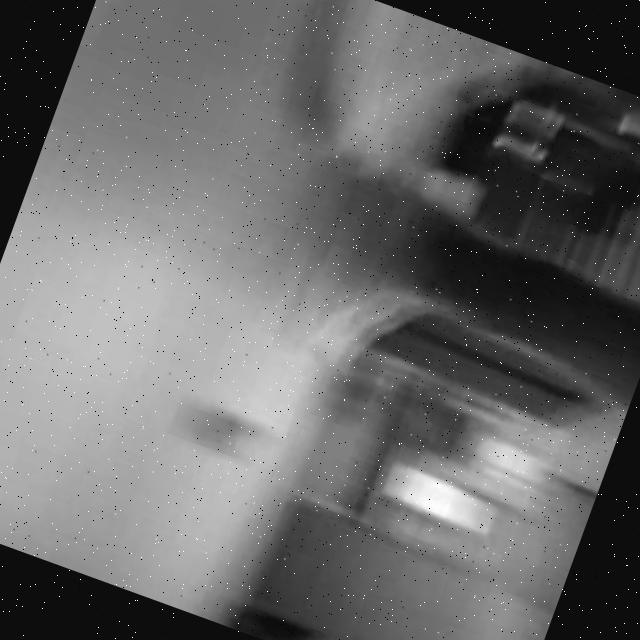ping-pong-ball: (174, 386, 302, 486)
